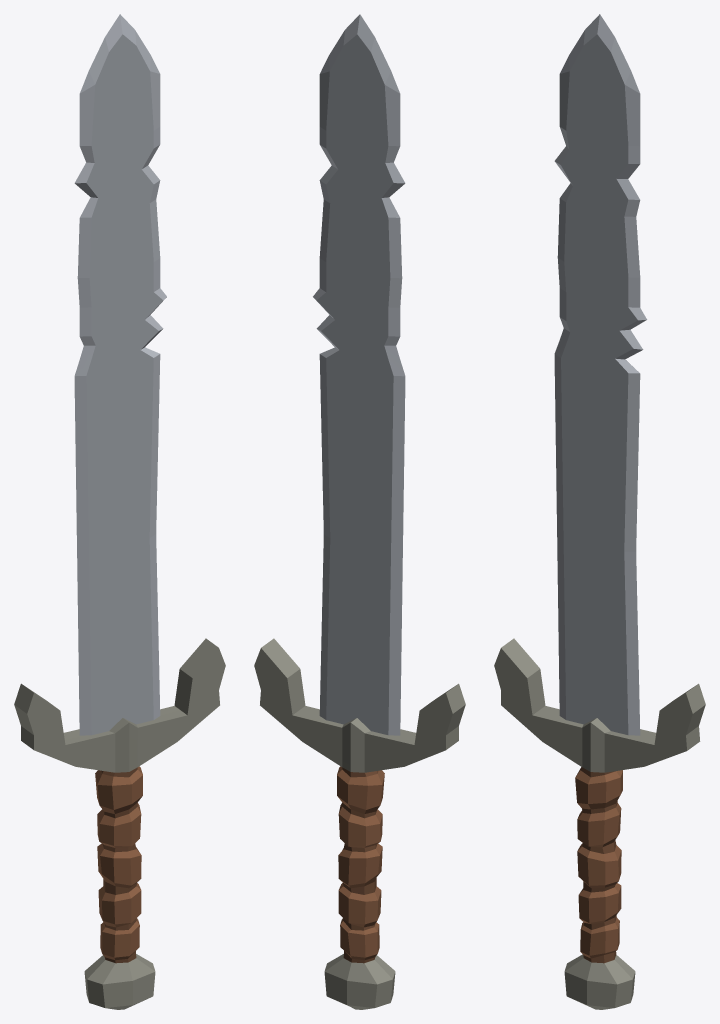
The picture shows the model from 3 angles, left to right: view 1: azimuth 30°, elevation 25°; view 2: azimuth 150°, elevation 25°; view 3: azimuth 330°, elevation 25°; orthographic projection.
Parts seen in each view (by area): view 1: Sword; view 2: Sword; view 3: Sword.
Boxes of the visible parts, x1=… form: Sword: x1=14, y1=14, x2=225, y2=1009; Sword: x1=254, y1=14, x2=465, y2=1009; Sword: x1=494, y1=14, x2=705, y2=1009.
Size of the model in its own units: 1.14 by 5.45 by 0.2611.
